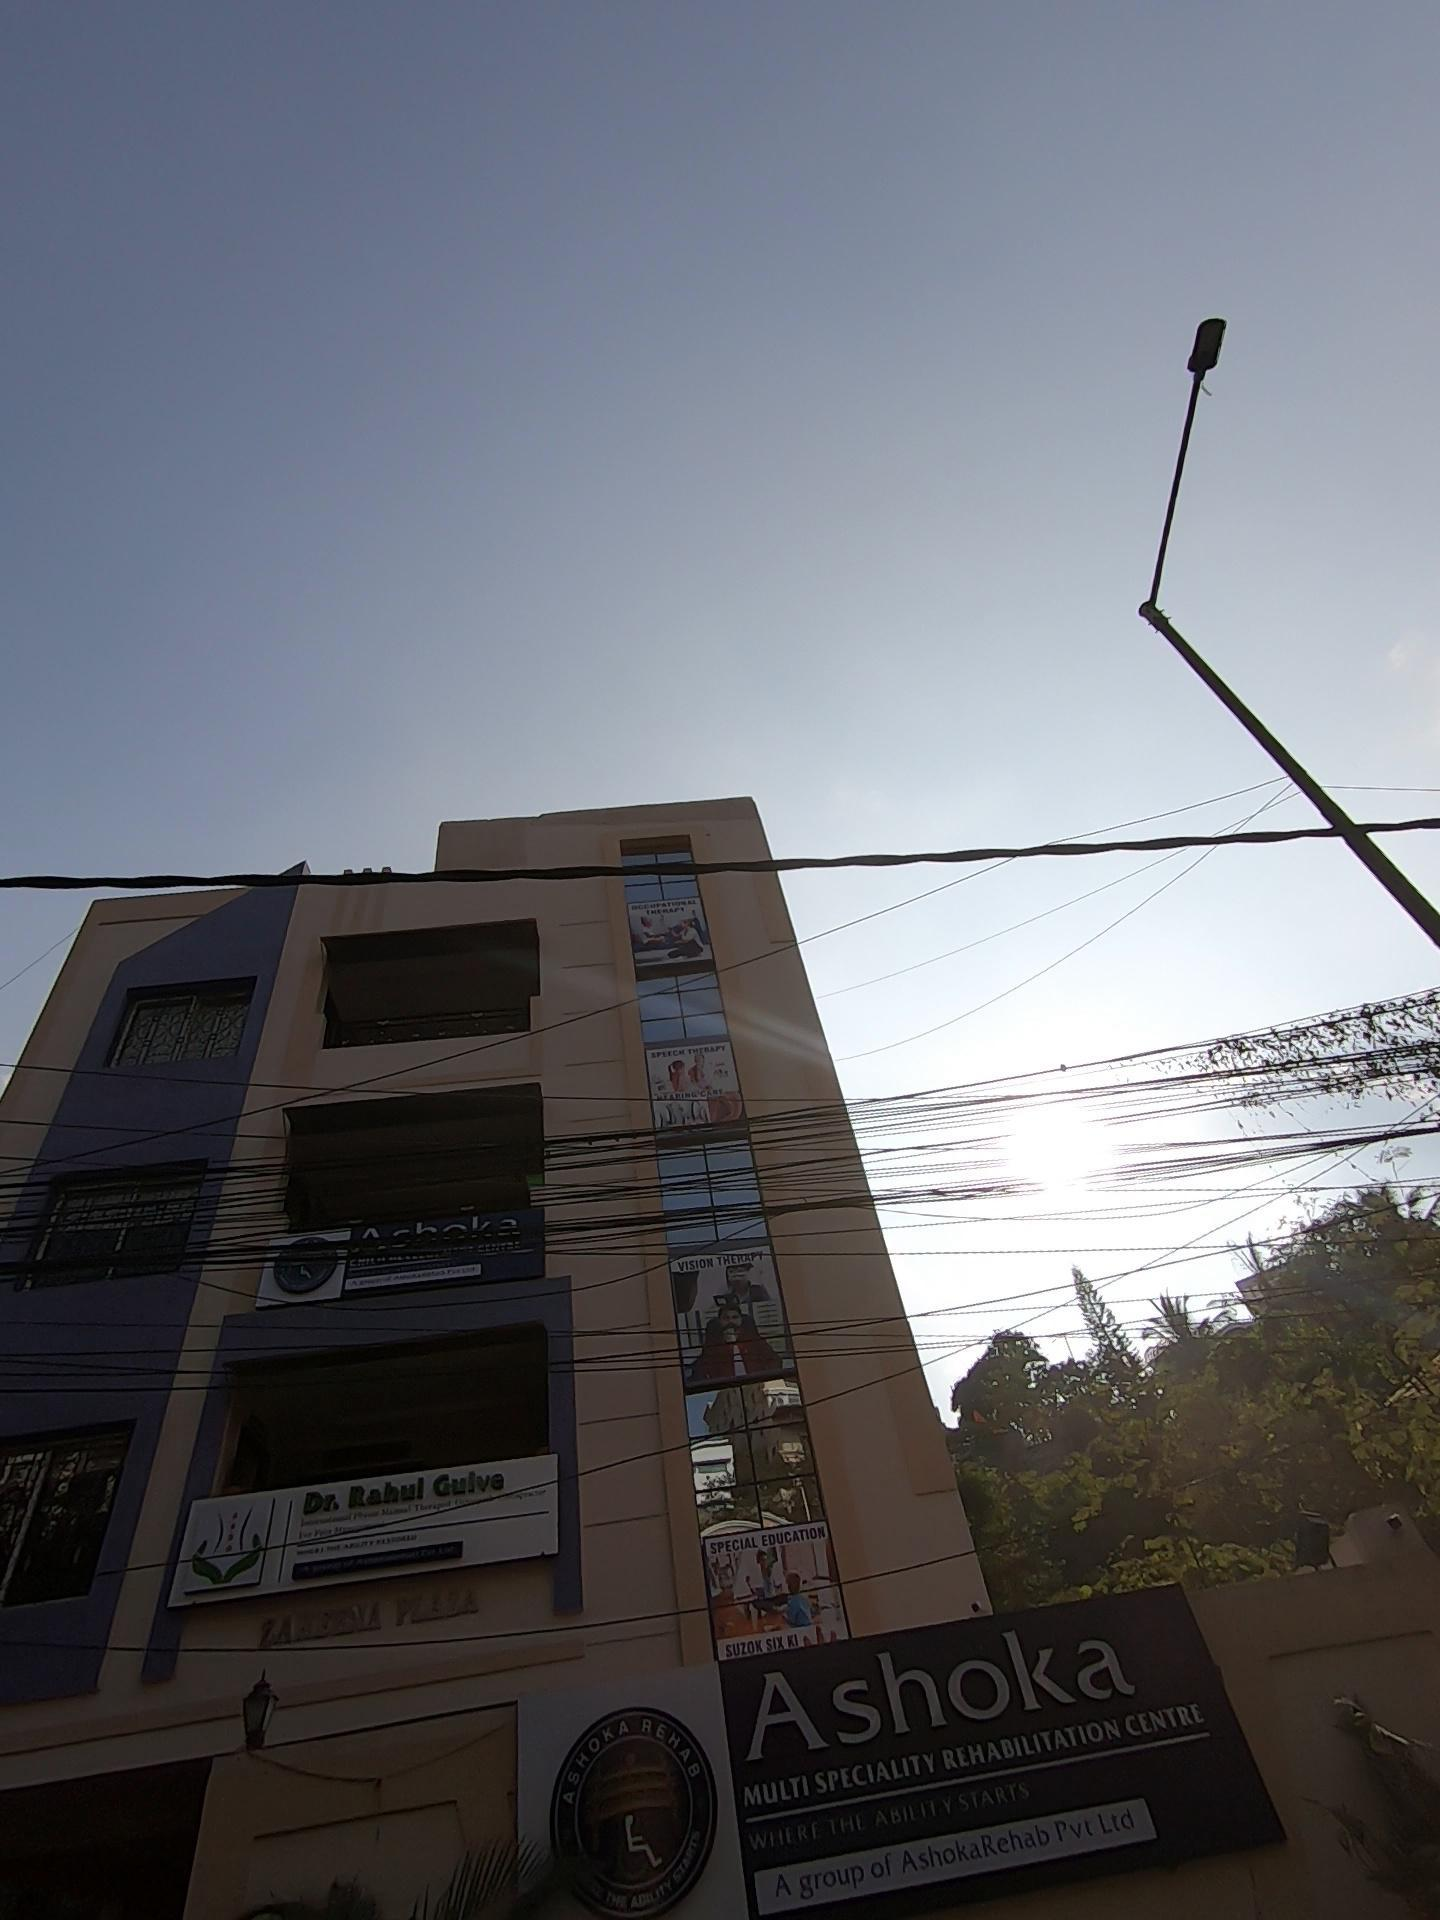off: (1080, 204, 1272, 741)
